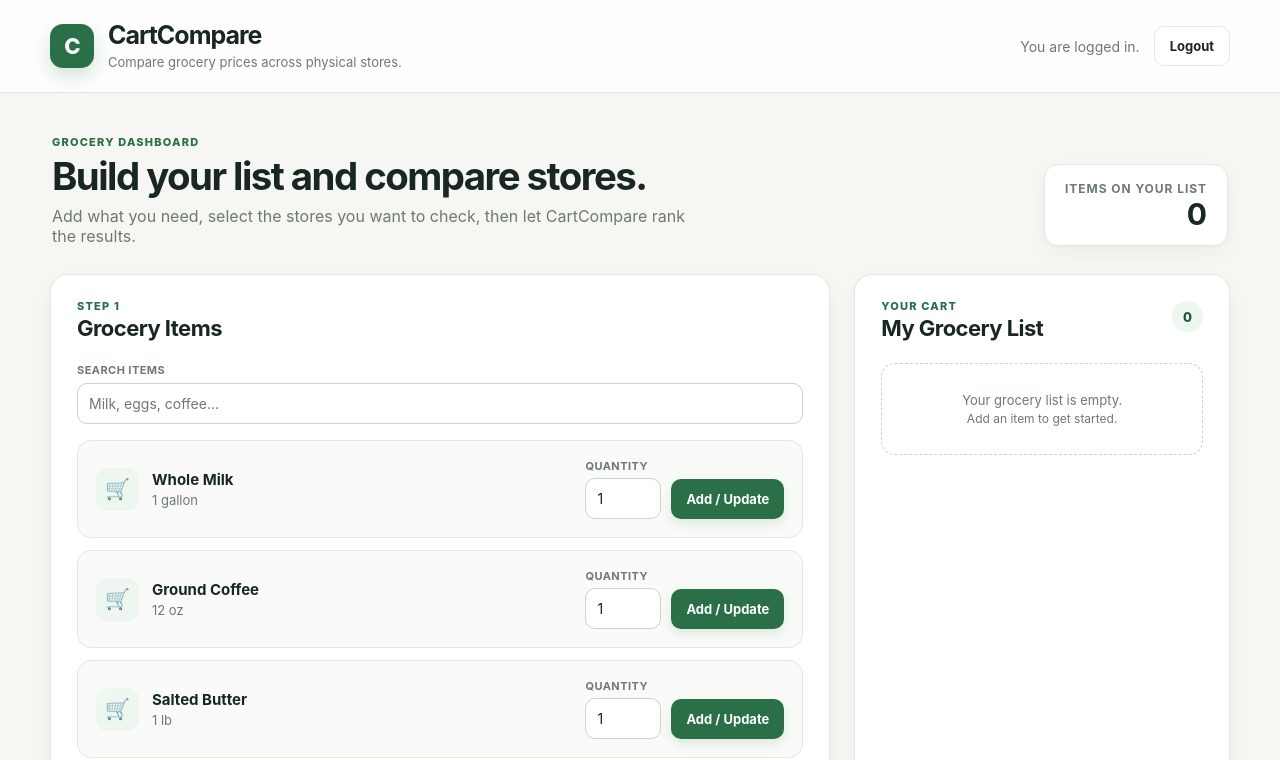
Test case: App item search › filters grocery items by name and category words
In the search field labelled "Search items": (440, 404) [77,383,803,424], type "dairy butter"
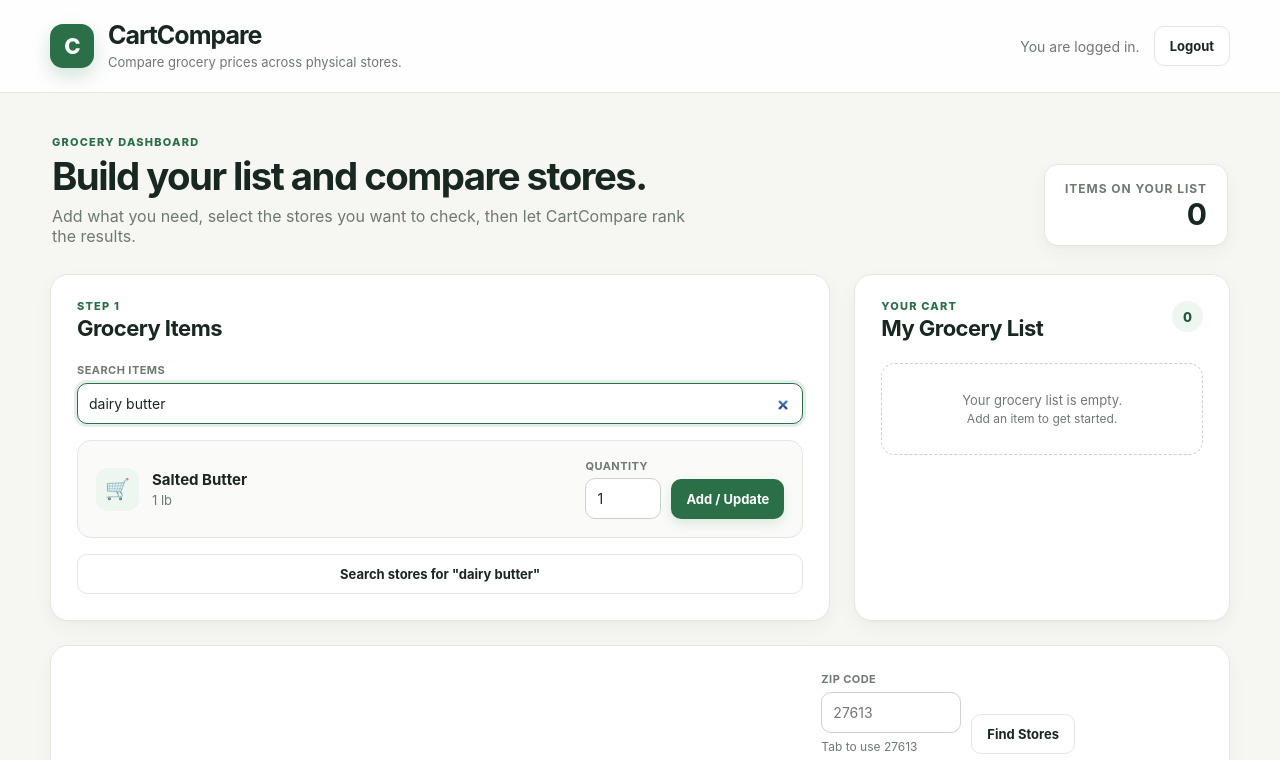
Check: the heading "Salted Butter" is shown, box [152,470,247,489]
Check: the heading "Whole Milk" is gone
Check: the heading "Ground Coffee" is gone
